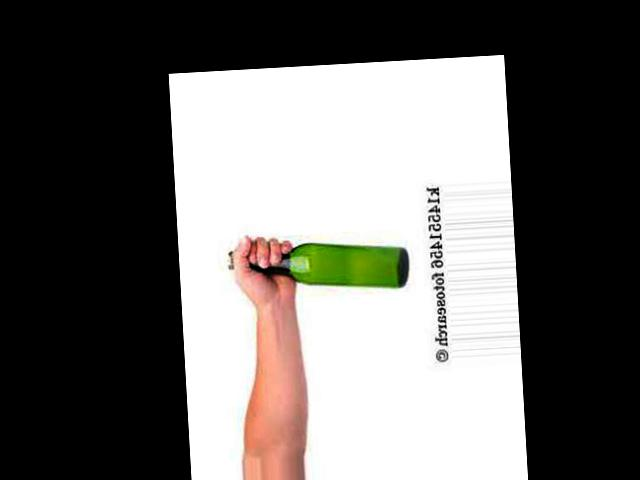beer: (228, 238, 410, 298)
